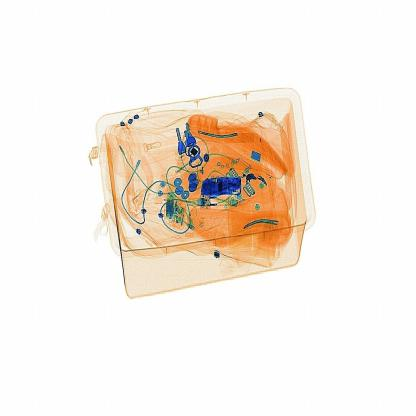knife: (203, 164, 253, 208)
